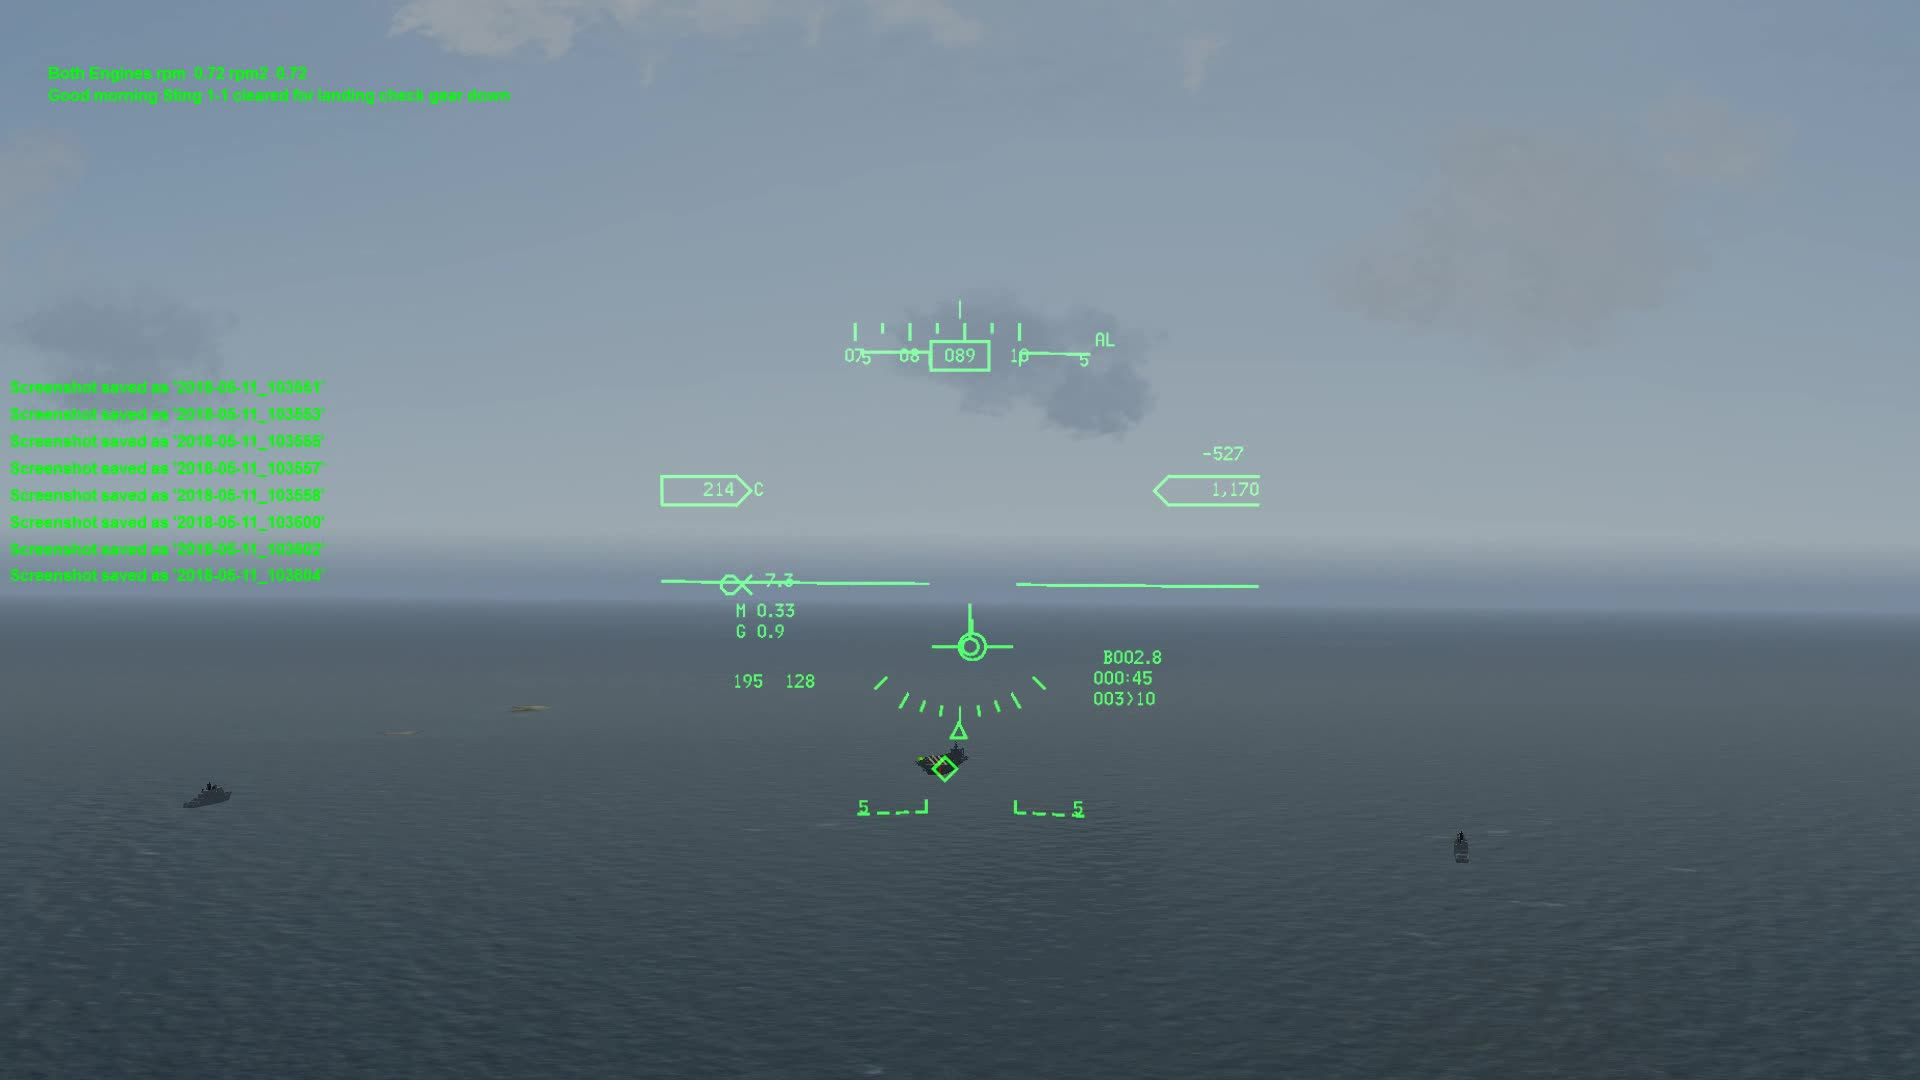speed vector: (924, 608, 1015, 666)
